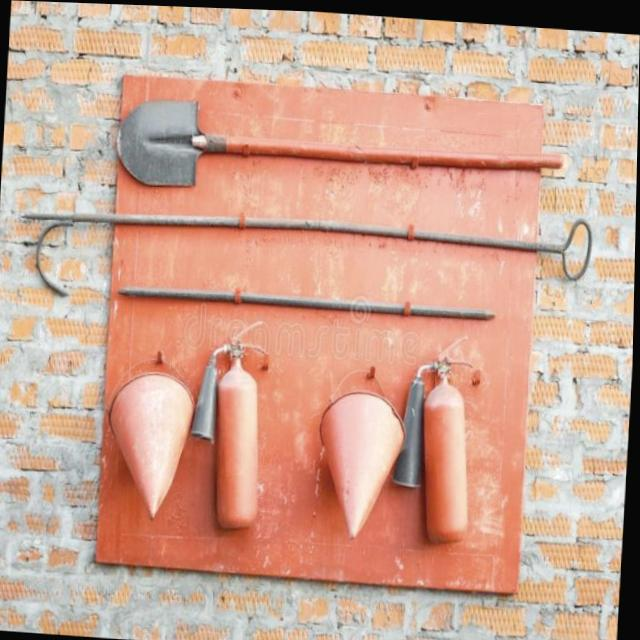FireExtinguisher: (183, 306, 280, 534), (387, 329, 485, 550)
